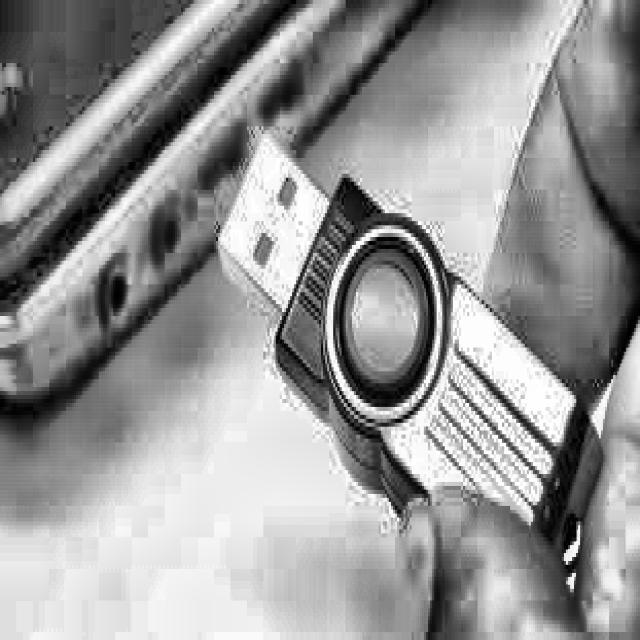Mug: (189, 100, 589, 562)
